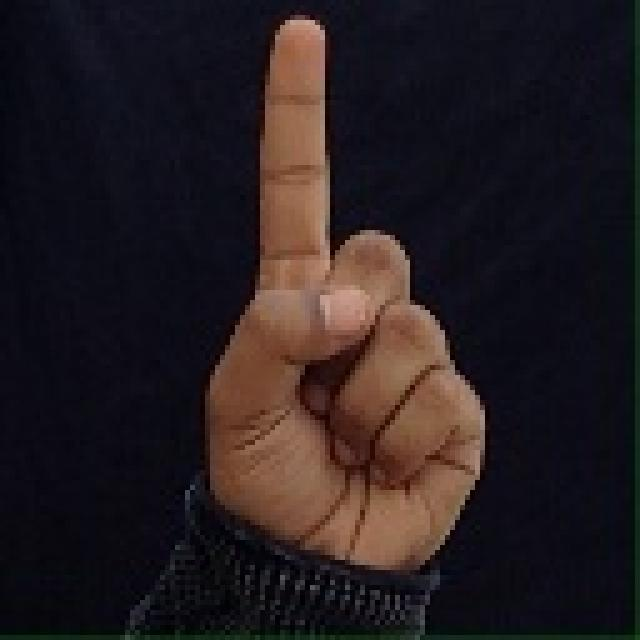Numeric-1: (205, 16, 486, 598)
